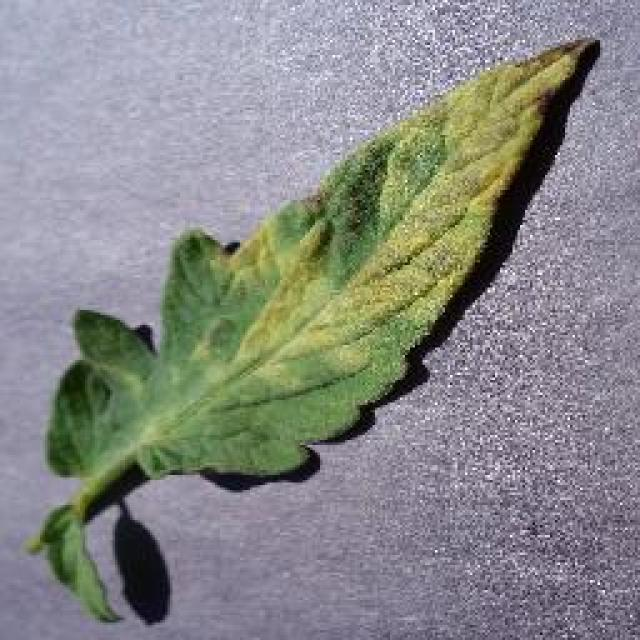Tomato___Leaf_Mold: (30, 42, 585, 618)
